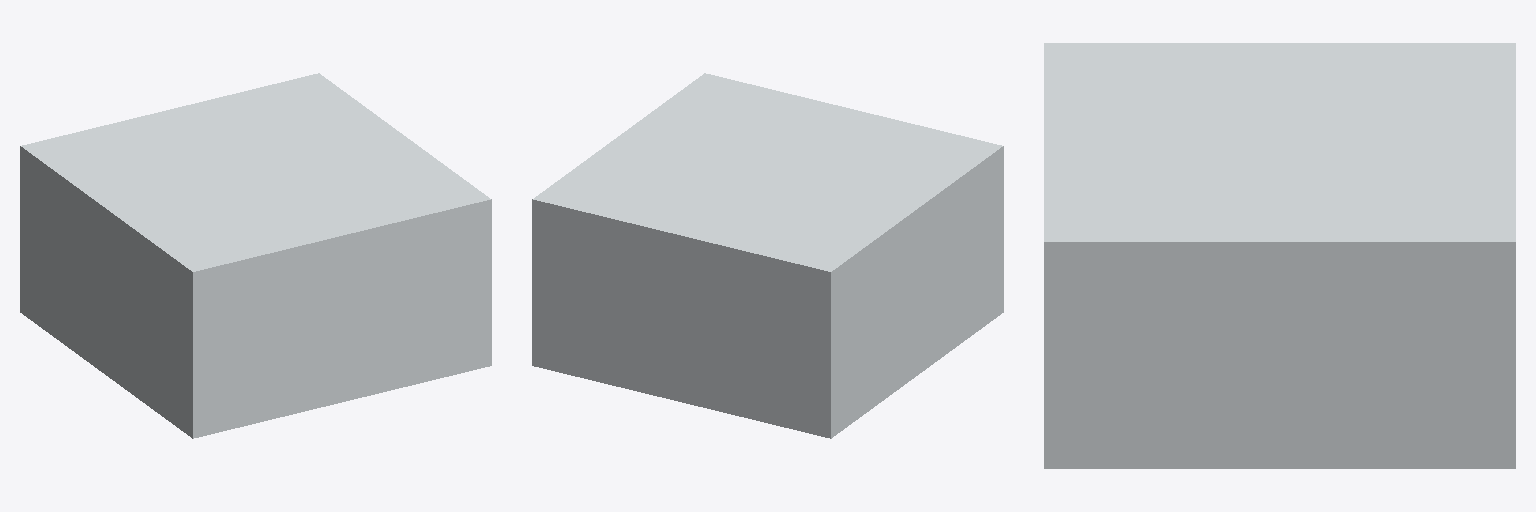
URDF robot description (FlameWheel_F450_thermal):
<?xml version="1.0" encoding="utf-8"?>
<!-- This URDF was automatically created by SolidWorks to URDF Exporter! Originally created by [author] ([email redacted]) 
     Commit Version: 1.5.1-0-g916b5db  Build Version: 1.5.7152.31018
     For more information, please see http://wiki.ros.org/sw_urdf_exporter -->
<robot
  name="FlameWheel_F450_thermal">
  <link
    name="base_link">
    <inertial>
      <origin
        xyz="0.00027849 -0.00083549 0.015434"
        rpy="0 0 0" />
      <mass
        value="1.3025" />
      <inertia
        ixx="0.00090168"
        ixy="-6.8172E-08"
        ixz="4.082E-06"
        iyy="0.0016238"
        iyz="1.7902E-07"
        izz="0.0022513" />
    </inertial>
    <visual>
      <origin
        xyz="0 0 0"
        rpy="0 0 0" />
      <geometry>
        <mesh
          filename="package://FlameWheel_F450_thermal/meshes/base_link.STL" />
      </geometry>
      <material
        name="">
        <color
          rgba="0.89804 0.91765 0.92941 1" />
      </material>
    </visual>
    <collision>
      <origin
        xyz="0 0 0"
        rpy="0 0 0" />
      <geometry>
        <mesh
          filename="package://FlameWheel_F450_thermal/meshes/base_link.STL" />
      </geometry>
    </collision>
  </link>
  <link
    name="propeller_1">
    <inertial>
      <origin
        xyz="3.9364E-07 4.9255E-07 -0.00082037"
        rpy="0 0 0" />
      <mass
        value="0.0016559" />
      <inertia
        ixx="8.4464E-07"
        ixy="-7.2191E-07"
        ixz="5.3515E-13"
        iyy="6.4014E-07"
        iyz="5.5137E-13"
        izz="1.4805E-06" />
    </inertial>
    <visual>
      <origin
        xyz="0 0 0"
        rpy="0 0 0" />
      <geometry>
        <mesh
          filename="package://FlameWheel_F450_thermal/meshes/propeller_1.STL" />
      </geometry>
      <material
        name="">
        <color
          rgba="1 1 1 1" />
      </material>
    </visual>
    <collision>
      <origin
        xyz="0 0 0"
        rpy="0 0 0" />
      <geometry>
        <mesh
          filename="package://FlameWheel_F450_thermal/meshes/propeller_1.STL" />
      </geometry>
    </collision>
  </link>
  <joint
    name="joint_propeller_1"
    type="revolute">
    <origin
      xyz="0.15891 0.15872 0.062676"
      rpy="0 0 0.7854" />
    <parent
      link="base_link" />
    <child
      link="propeller_1" />
    <axis
      xyz="0 0 -1" />
    <limit
      lower="0"
      upper="0"
      effort="0"
      velocity="0" />
  </joint>
  <link
    name="propeller_2">
    <inertial>
      <origin
        xyz="-4.0868E-07 4.4208E-07 -0.00082036"
        rpy="0 0 0" />
      <mass
        value="0.001655" />
      <inertia
        ixx="8.5496E-07"
        ixy="7.1953E-07"
        ixz="-4.1012E-13"
        iyy="6.2836E-07"
        iyz="5.491E-13"
        izz="1.479E-06" />
    </inertial>
    <visual>
      <origin
        xyz="0 0 0"
        rpy="0 0 0" />
      <geometry>
        <mesh
          filename="package://FlameWheel_F450_thermal/meshes/propeller_2.STL" />
      </geometry>
      <material
        name="">
        <color
          rgba="1 1 1 1" />
      </material>
    </visual>
    <collision>
      <origin
        xyz="0 0 0"
        rpy="0 0 0" />
      <geometry>
        <mesh
          filename="package://FlameWheel_F450_thermal/meshes/propeller_2.STL" />
      </geometry>
    </collision>
  </link>
  <joint
    name="joint_propeller_2"
    type="revolute">
    <origin
      xyz="0.1589 -0.15909 0.062676"
      rpy="0 0 -0.7854" />
    <parent
      link="base_link" />
    <child
      link="propeller_2" />
    <axis
      xyz="0 0 -1" />
    <limit
      lower="0"
      upper="0"
      effort="0"
      velocity="0" />
  </joint>
  <link
    name="propeller_3">
    <inertial>
      <origin
        xyz="3.7075E-07 4.7328E-07 -0.00082037"
        rpy="0 0 0" />
      <mass
        value="0.0016559" />
      <inertia
        ixx="8.4464E-07"
        ixy="-7.2191E-07"
        ixz="4.4271E-13"
        iyy="6.4014E-07"
        iyz="4.7478E-13"
        izz="1.4805E-06" />
    </inertial>
    <visual>
      <origin
        xyz="0 0 0"
        rpy="0 0 0" />
      <geometry>
        <mesh
          filename="package://FlameWheel_F450_thermal/meshes/propeller_1.STL" />
      </geometry>
      <material
        name="">
        <color
          rgba="1 1 1 1" />
      </material>
    </visual>
    <collision>
      <origin
        xyz="0 0 0"
        rpy="0 0 0" />
      <geometry>
        <mesh
          filename="package://FlameWheel_F450_thermal/meshes/propeller_1.STL" />
      </geometry>
    </collision>
  </link>
  <joint
    name="joint_propeller_3"
    type="revolute">
    <origin
      xyz="-0.15891 -0.15908 0.062676"
      rpy="0 0 0.7854" />
    <parent
      link="base_link" />
    <child
      link="propeller_3" />
    <axis
      xyz="0 0 -1" />
    <limit
      lower="0"
      upper="0"
      effort="0"
      velocity="0" />
  </joint>
  <link
    name="propeller_4">
    <inertial>
      <origin
        xyz="-4.1378E-07 4.3157E-07 -0.00082036"
        rpy="0 0 0" />
      <mass
        value="0.001655" />
      <inertia
        ixx="8.5496E-07"
        ixy="7.1953E-07"
        ixz="-4.184E-13"
        iyy="6.2836E-07"
        iyz="5.3609E-13"
        izz="1.479E-06" />
    </inertial>
    <visual>
      <origin
        xyz="0 0 0"
        rpy="0 0 0" />
      <geometry>
        <mesh
          filename="package://FlameWheel_F450_thermal/meshes/propeller_2.STL" />
      </geometry>
      <material
        name="">
        <color
          rgba="1 1 1 1" />
      </material>
    </visual>
    <collision>
      <origin
        xyz="0 0 0"
        rpy="0 0 0" />
      <geometry>
        <mesh
          filename="package://FlameWheel_F450_thermal/meshes/propeller_2.STL" />
      </geometry>
    </collision>
  </link>
  <joint
    name="joint_propeller_4"
    type="revolute">
    <origin
      xyz="-0.1589 0.15873 0.062676"
      rpy="0 0 -0.7854" />
    <parent
      link="base_link" />
    <child
      link="propeller_4" />
    <axis
      xyz="0 0 -1" />
    <limit
      lower="0"
      upper="0"
      effort="0"
      velocity="0" />
  </joint>
  <link
    name="cam1_link">
    <inertial>
      <origin
        xyz="-0.00083432 -0.0028971 -0.00024839"
        rpy="0 0 0" />
      <mass
        value="0.050075" />
      <inertia
        ixx="3.2061E-05"
        ixy="4.2601E-10"
        ixz="-1.169E-08"
        iyy="5.1652E-06"
        iyz="-5.2181E-10"
        izz="3.0815E-05" />
    </inertial>
    <visual>
      <origin
        xyz="0 0 0"
        rpy="0 0 0" />
      <geometry>
        <mesh
          filename="package://FlameWheel_F450_thermal/meshes/cam1_link.STL" />
      </geometry>
      <material
        name="">
        <color
          rgba="0.79216 0.81961 0.93333 1" />
      </material>
    </visual>
    <collision>
      <origin
        xyz="0 0 0"
        rpy="0 0 0" />
      <geometry>
        <mesh
          filename="package://FlameWheel_F450_thermal/meshes/cam1_link.STL" />
      </geometry>
    </collision>
  </link>
  <joint
    name="joint_cam1"
    type="fixed">
    <origin
      xyz="0.041421 -0.046913 -0.067515"
      rpy="0.0068235 0.7854 0" />
    <parent
      link="base_link" />
    <child
      link="cam1_link" />
    <axis
      xyz="0 0 0" />
  </joint>
  <link
    name="cam2_link">
    <inertial>
      <origin
        xyz="-0.00083432 1.1608E-05 -2.3578E-05"
        rpy="0 0 0" />
      <mass
        value="0.050075" />
      <inertia
        ixx="3.2061E-05"
        ixy="4.2601E-10"
        ixz="-1.169E-08"
        iyy="5.1652E-06"
        iyz="-5.2183E-10"
        izz="3.0815E-05" />
    </inertial>
    <visual>
      <origin
        xyz="0 0 0"
        rpy="0 0 0" />
      <geometry>
        <mesh
          filename="package://FlameWheel_F450_thermal/meshes/cam1_link.STL" />
      </geometry>
      <material
        name="">
        <color
          rgba="0.79216 0.81961 0.93333 1" />
      </material>
    </visual>
    <collision>
      <origin
        xyz="0 0 0"
        rpy="0 0 0" />
      <geometry>
        <mesh
          filename="package://FlameWheel_F450_thermal/meshes/cam1_link.STL" />
      </geometry>
    </collision>
  </link>
  <joint
    name="joint_cam2"
    type="fixed">
    <origin
      xyz="0.042355 0.046075 -0.066582"
      rpy="0.020785 0.7854 0" />
    <parent
      link="base_link" />
    <child
      link="cam2_link" />
    <axis
      xyz="0 0.020784 0.99978" />
    <limit
      lower="0"
      upper="0"
      effort="0"
      velocity="0" />
  </joint>
</robot>

--- What the picture shows (computed from the rendered views, not written in the file) ---
The picture shows the robot from 3 angles, left to right: view 1: azimuth 30°, elevation 25°; view 2: azimuth 150°, elevation 25°; view 3: azimuth 270°, elevation 25°; orthographic projection.
Robot: FlameWheel_F450_thermal — 7 links, 6 joints (4 revolute, 2 fixed); root link base_link; default pose: all joints at 0.
Visible links, largest first — view 1: base_link; view 2: base_link; view 3: base_link.
Boxes of the visible links, x1,y1,x2,y2 form: base_link: [20, 73, 491, 438]; base_link: [532, 73, 1003, 438]; base_link: [1044, 43, 1515, 468].
Size in the robot's own frame: 0.003 by 0.003 by 0.0016 metres.
Meshes: 4 distinct files referenced, 1 mesh visuals loaded (1 binary STL); not drawn: 6 (reference not matched to a file when rendering).